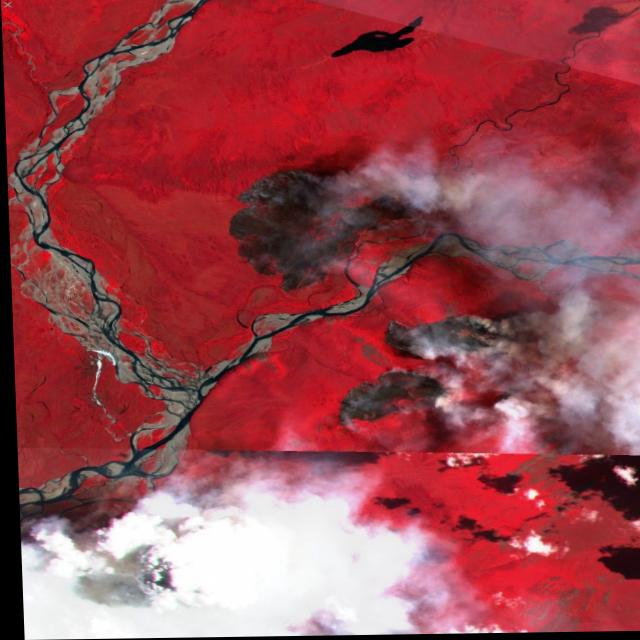fire: (206, 156, 445, 300), (15, 513, 206, 640), (316, 307, 508, 433)
